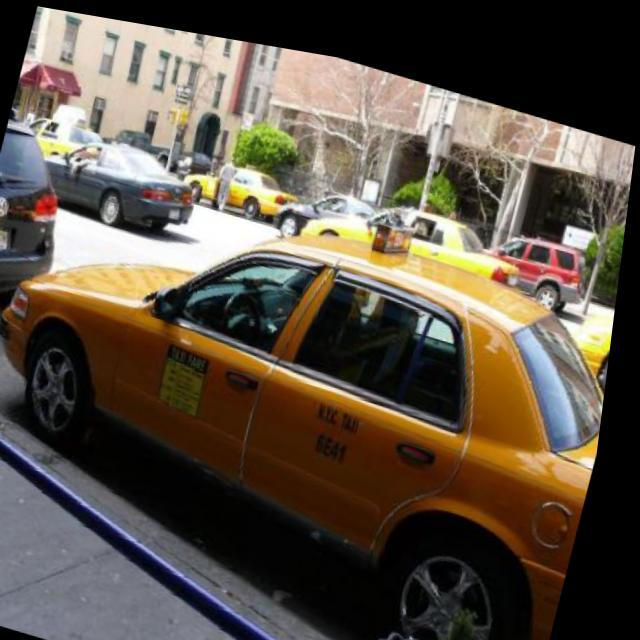license_plate: (0, 221, 19, 256)
